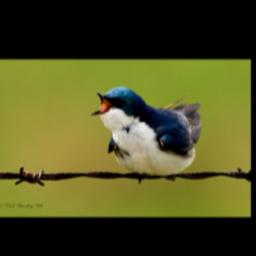Swallow: (87, 84, 203, 183)
